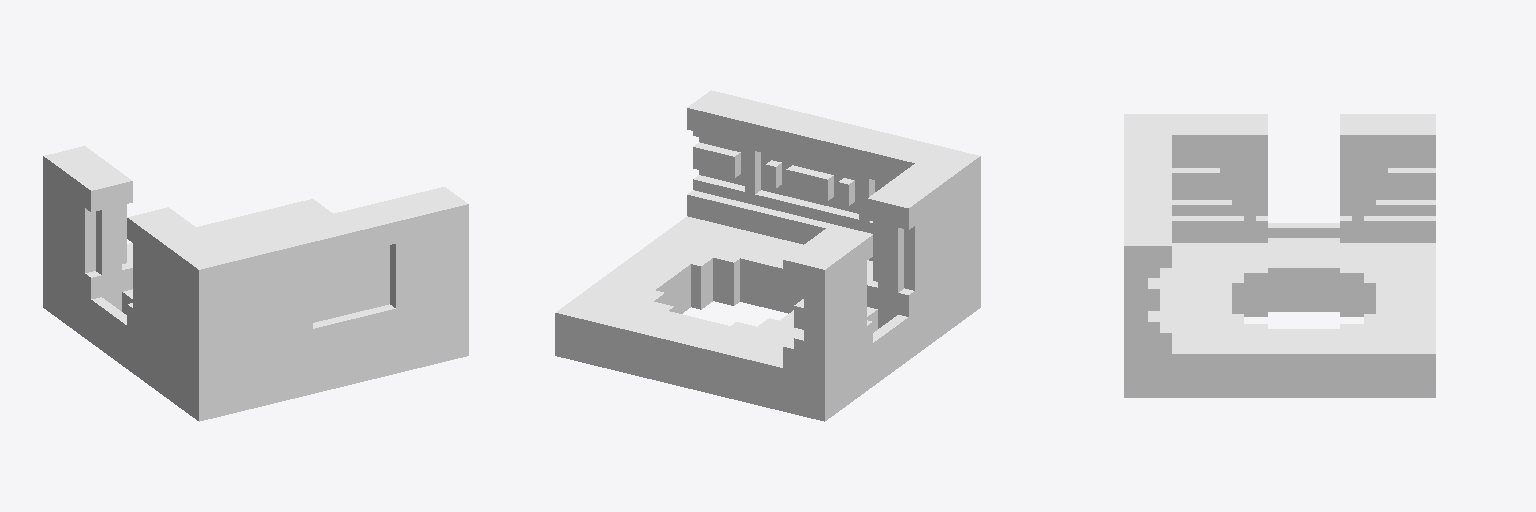
Rendered from Room_Special_L.obj.
The picture shows the model from 3 angles: view 1: azimuth 30°, elevation 25°; view 2: azimuth 150°, elevation 25°; view 3: azimuth 270°, elevation 25°; orthographic projection.
Parts seen in each view (by area): view 1: Room_Special_L; view 2: Room_Special_L; view 3: Room_Special_L.
Part boxes in pixels (x1,y1,x2,y2): Room_Special_L: (43, 146, 468, 421); Room_Special_L: (555, 90, 980, 421); Room_Special_L: (1124, 114, 1435, 397).
Size of the model in its own units: 26 by 14 by 26.